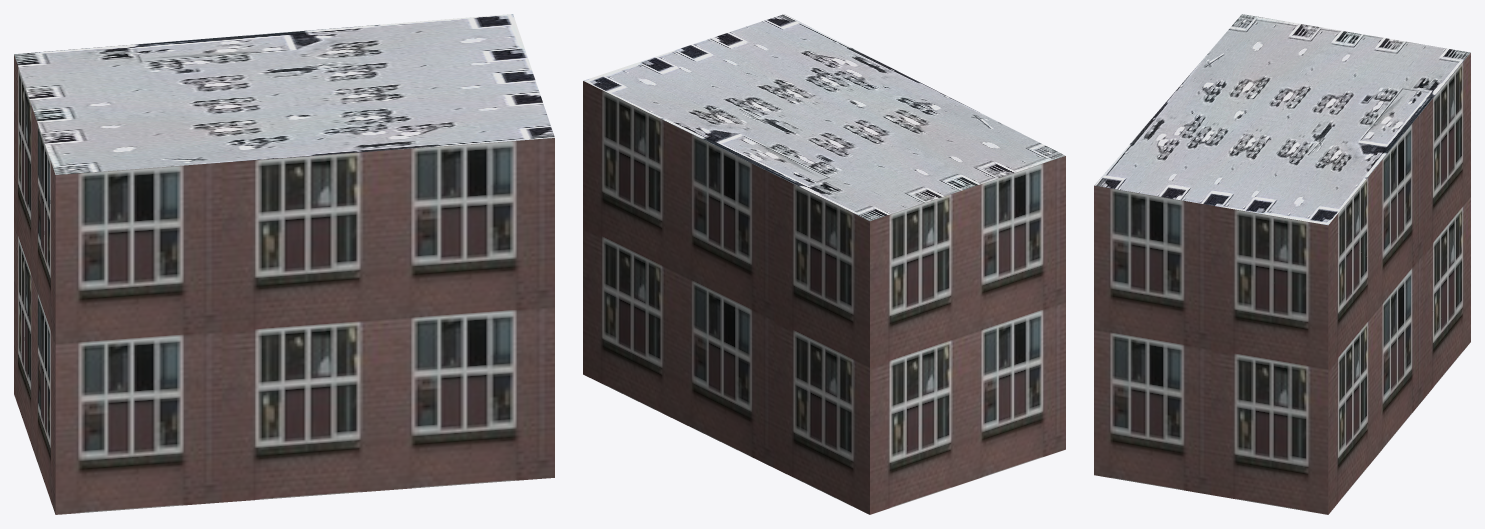
Rendered from ResTex__875.fbx.
3 views of the same model, side by side, from view 1: azimuth 30°, elevation 25°; view 2: azimuth 150°, elevation 25°; view 3: azimuth 270°, elevation 25° (orthographic). The views are drawn at different scales.
Parts seen in each view (by area): view 1: CityEngineMaterial_12_m, CityEngineMaterial_m; view 2: CityEngineMaterial_12_m, CityEngineMaterial_m; view 3: CityEngineMaterial_12_m, CityEngineMaterial_m.
Part boxes in pixels (x1=…): CityEngineMaterial_12_m: x1=14, y1=55, x2=554, y2=514; CityEngineMaterial_m: x1=14, y1=14, x2=554, y2=174; CityEngineMaterial_12_m: x1=583, y1=81, x2=1065, y2=514; CityEngineMaterial_m: x1=583, y1=14, x2=1065, y2=220; CityEngineMaterial_12_m: x1=1094, y1=53, x2=1470, y2=514; CityEngineMaterial_m: x1=1094, y1=14, x2=1470, y2=225.
Bounding box in the file's own units: 9.39 × 6 × 7.07.
Materials: 2 (2 with a texture image).
